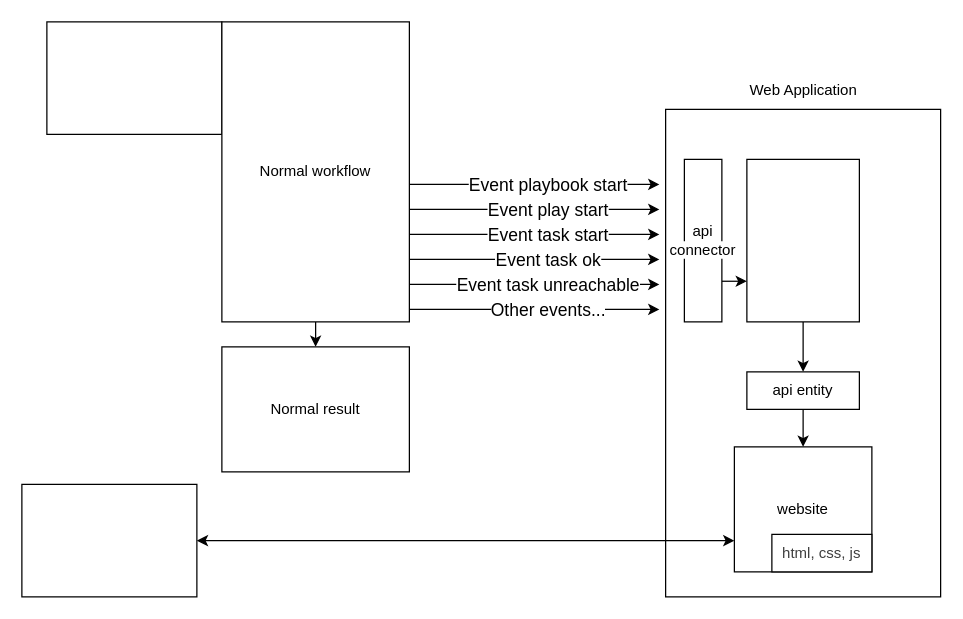
This 963x619 diagram has some shape labels left out. Here are the shapes that lost their labels. From the top down, the centre of each, then its label:
point (134, 77): ansible-playbook + callback plugin
point (802, 240): bdd
point (109, 540): Client using web broswer
